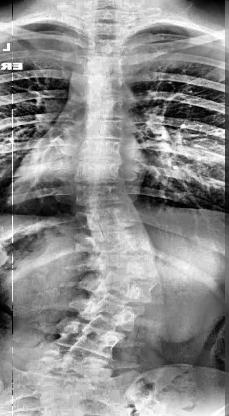Vertebrae: (36, 344, 118, 388), (51, 319, 127, 359), (88, 270, 160, 312), (89, 246, 168, 284), (74, 294, 146, 334), (72, 85, 132, 121), (72, 182, 142, 212), (76, 206, 146, 235), (76, 110, 132, 144), (88, 229, 158, 254), (73, 63, 131, 91), (75, 139, 131, 168), (71, 41, 129, 67), (74, 162, 130, 188), (75, 22, 135, 46), (76, 5, 136, 25)
